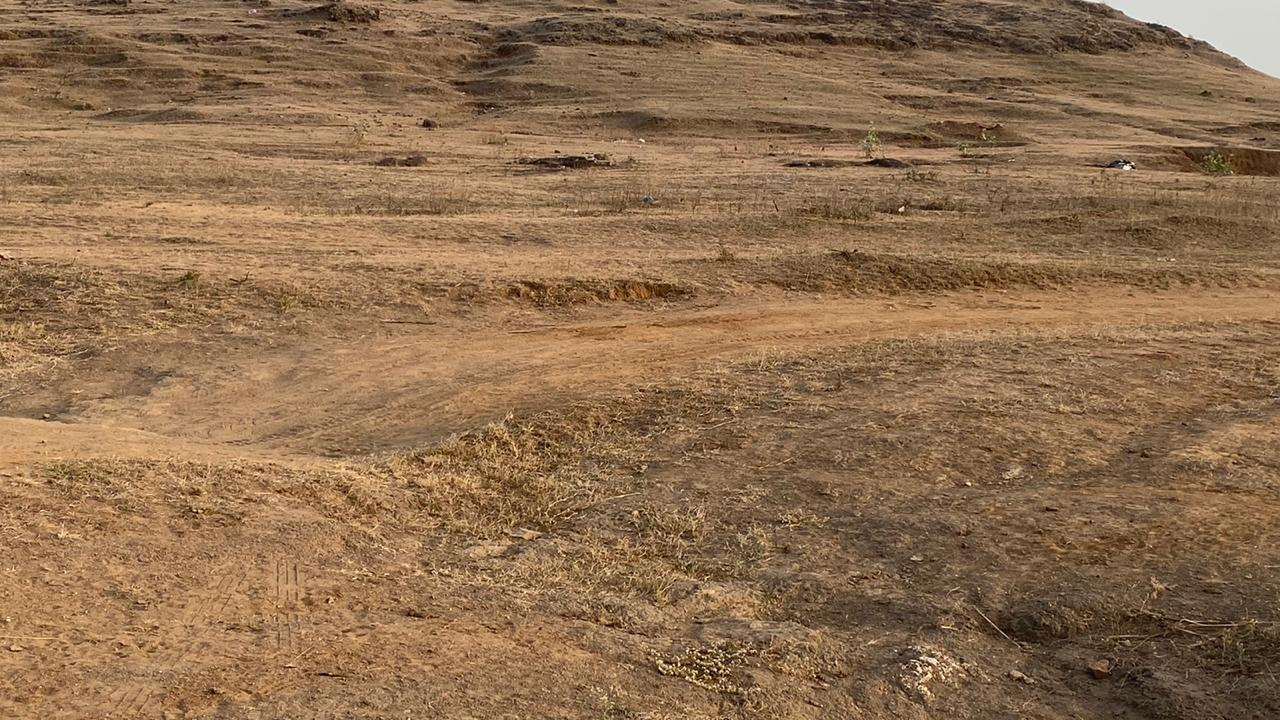vehicle_track: (67, 289, 1280, 456)
